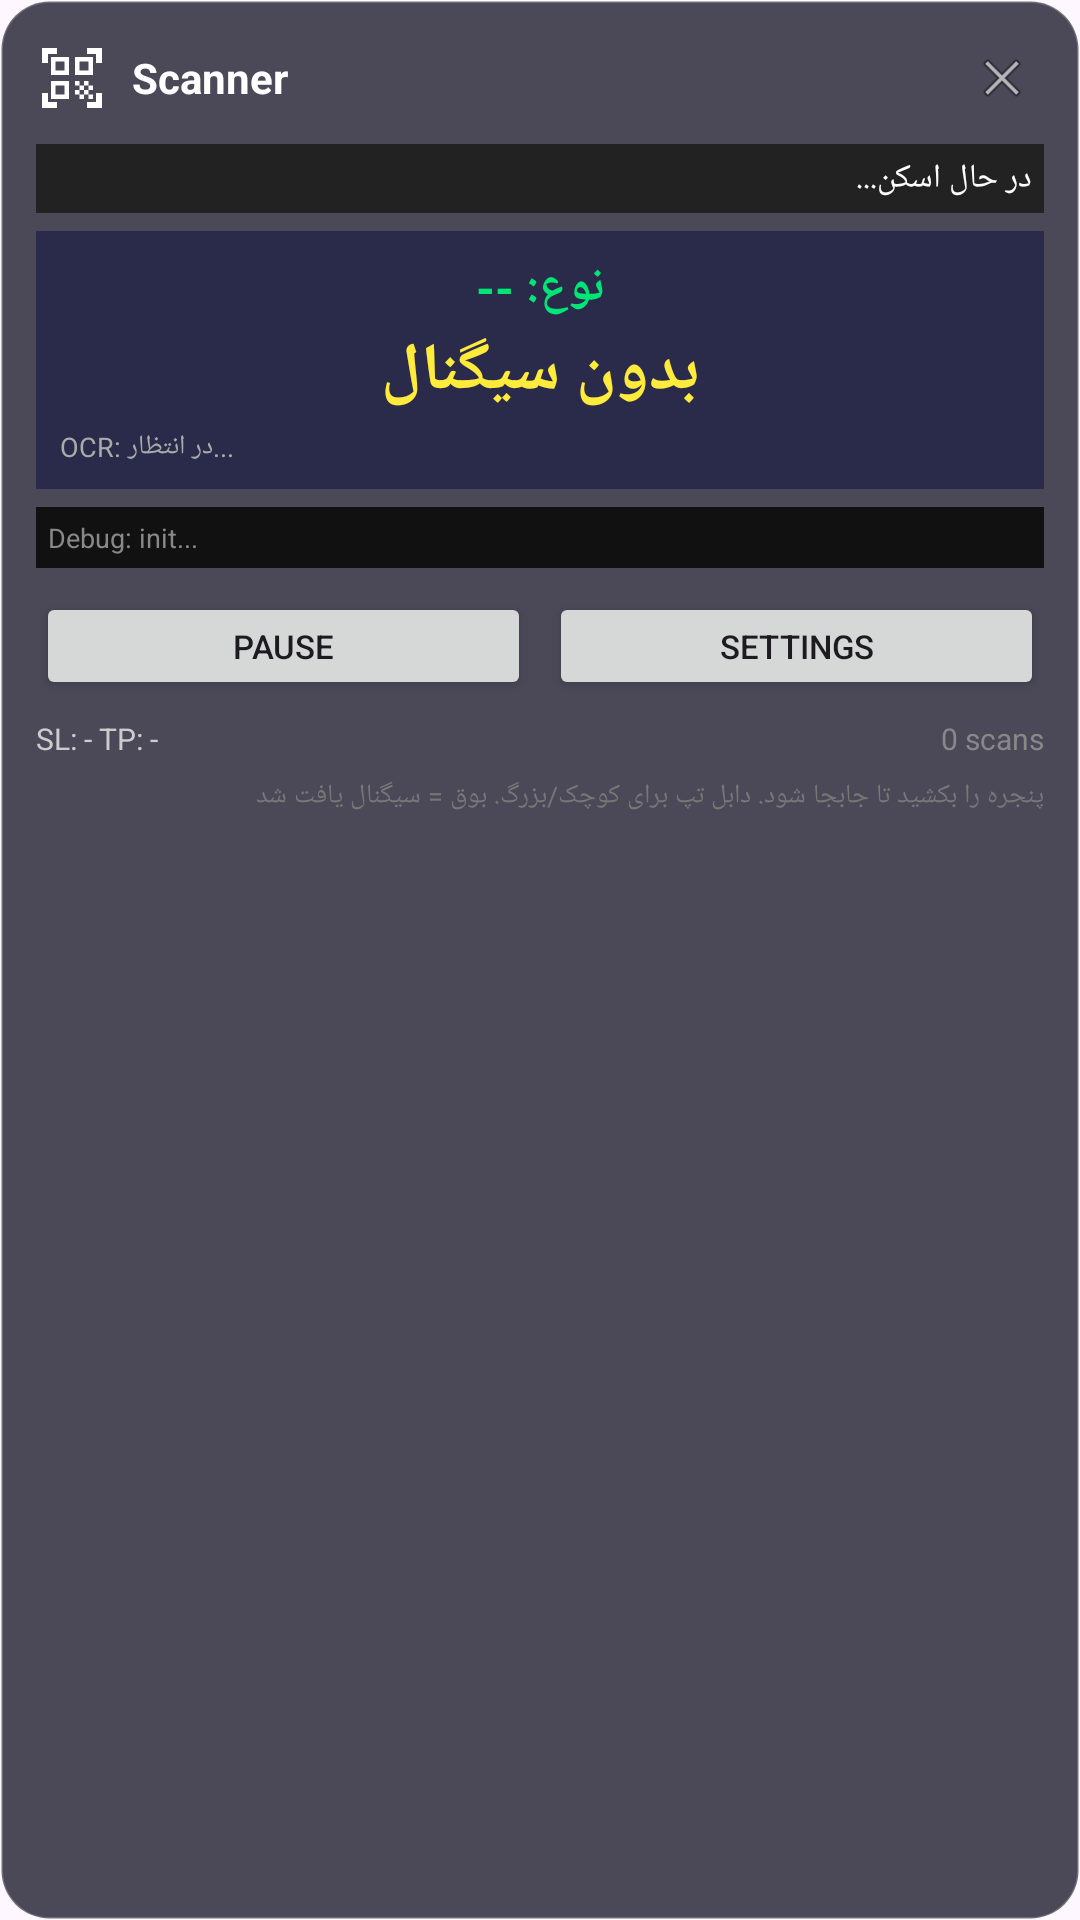

Where to tap for icons on this 1080 × 1920 app screen, as [x,y]:
close clear cancel: [1002,78]
